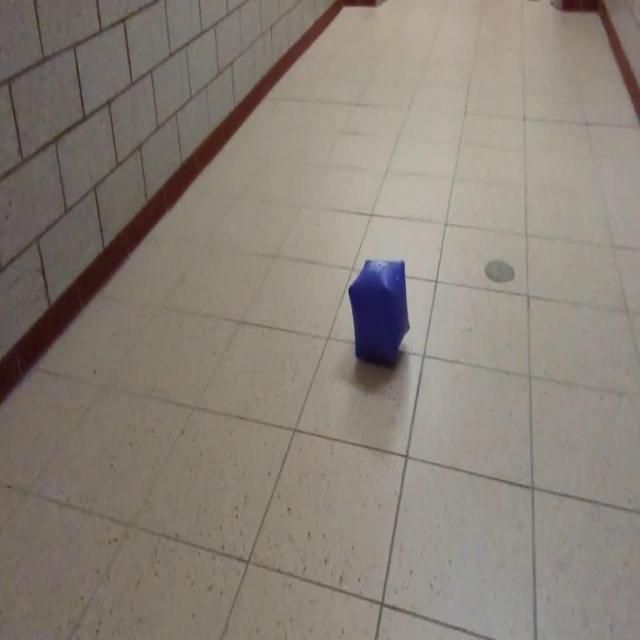frc_cube: (348, 255, 410, 371)
